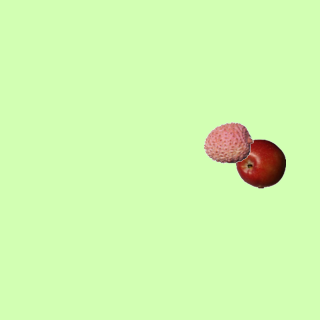Apple Braeburn: (235, 138, 285, 188)
Lychee: (203, 117, 253, 167)
